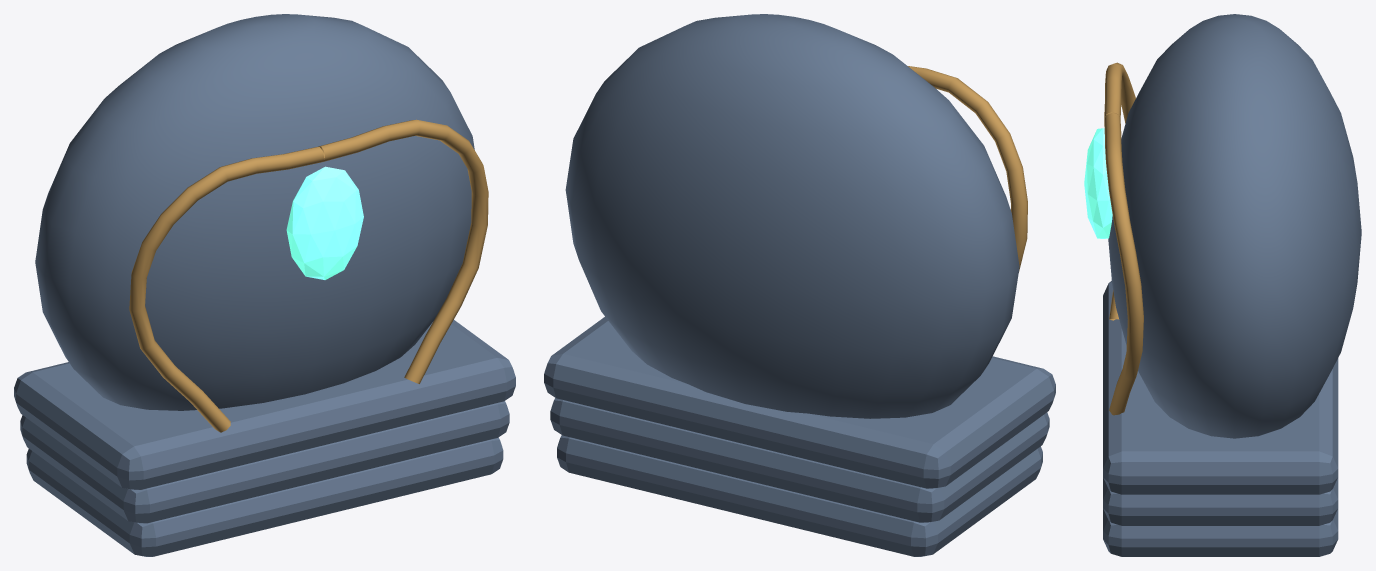
File: ArmorTorso.fbx
3 renders of one model, left to right at view 1: azimuth 30°, elevation 25°; view 2: azimuth 150°, elevation 25°; view 3: azimuth 270°, elevation 25°, orthographic. The views are drawn at different scales.
Visible parts, largest first — view 1: Sculpted cuirass_export, Overlapping fauld_export, Overlapping fauld.001_export, Overlapping fauld.002_export, Chest scroll_export, Chest scroll.001_export, Breast jewel_export; view 2: Sculpted cuirass_export, Overlapping fauld_export, Overlapping fauld.001_export, Overlapping fauld.002_export, Chest scroll_export; view 3: Sculpted cuirass_export, Overlapping fauld_export, Overlapping fauld.001_export, Overlapping fauld.002_export, Chest scroll.001_export, Breast jewel_export, Chest scroll_export.
Boxes of the visible parts, x1,y1,x2,y2 form: Sculpted cuirass_export: [35, 14, 474, 410]; Overlapping fauld_export: [14, 320, 515, 489]; Overlapping fauld.001_export: [20, 401, 509, 523]; Overlapping fauld.002_export: [26, 437, 503, 556]; Chest scroll_export: [129, 147, 324, 432]; Chest scroll.001_export: [318, 119, 488, 383]; Breast jewel_export: [286, 166, 363, 279]; Sculpted cuirass_export: [565, 14, 1019, 418]; Overlapping fauld_export: [544, 317, 1055, 488]; Overlapping fauld.001_export: [550, 398, 1049, 522]; Overlapping fauld.002_export: [557, 435, 1042, 556]; Chest scroll_export: [908, 66, 1027, 272]; Sculpted cuirass_export: [1108, 14, 1361, 438]; Overlapping fauld_export: [1103, 281, 1338, 494]; Overlapping fauld.001_export: [1103, 477, 1338, 525]; Overlapping fauld.002_export: [1103, 508, 1338, 556]; Chest scroll.001_export: [1104, 112, 1143, 415]; Breast jewel_export: [1084, 128, 1112, 238]; Chest scroll_export: [1104, 62, 1135, 320].
Size of the model in its own units: 204 by 205 by 118.
